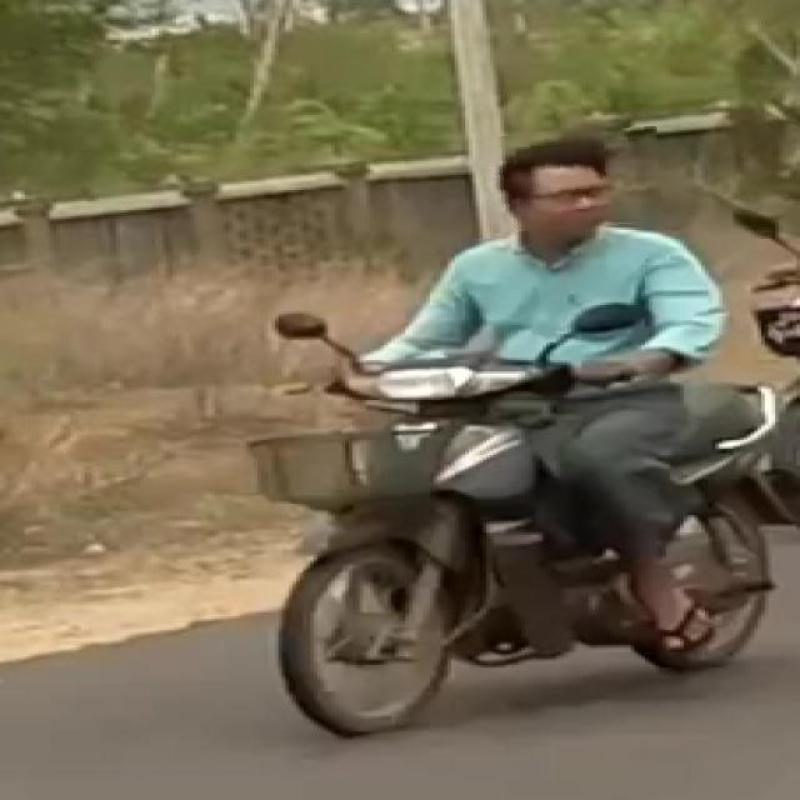nohelmet: (486, 129, 662, 231)
